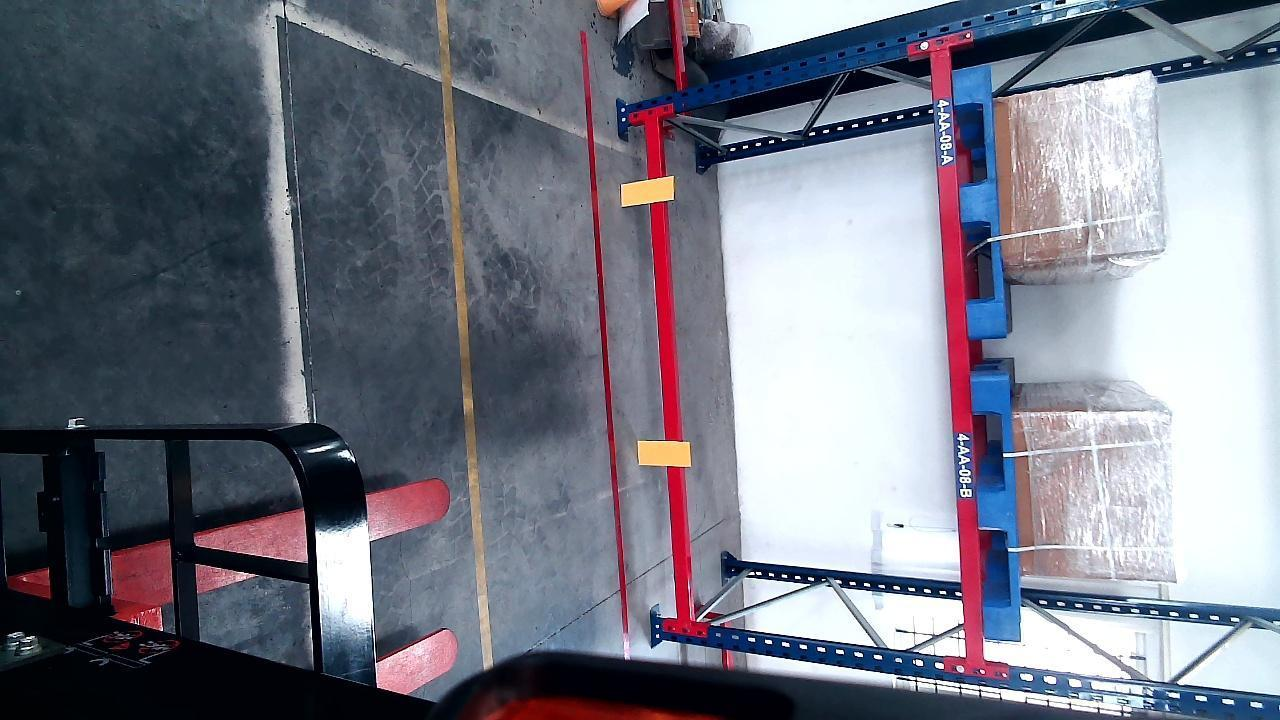h_rack: (933, 41, 986, 676), (643, 124, 696, 608)
orange_strip: (621, 175, 674, 205), (637, 438, 689, 465)
red_line: (580, 36, 628, 632)
small_pallet: (955, 66, 1004, 335), (975, 379, 1022, 625)
